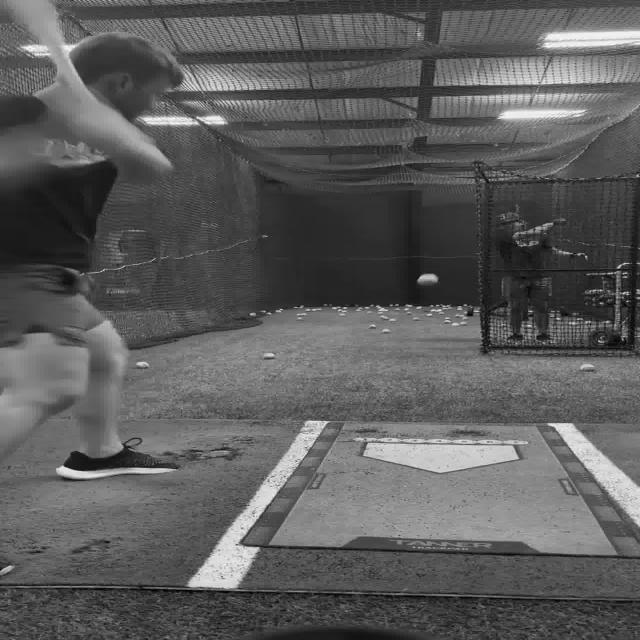base: (368, 444, 522, 472)
baseball: (416, 272, 438, 286), (578, 364, 594, 371), (135, 361, 149, 369), (262, 353, 274, 359), (380, 328, 390, 333)
bat: (4, 0, 102, 100)
shoe: (55, 438, 179, 481), (535, 334, 558, 346), (505, 334, 523, 346)
